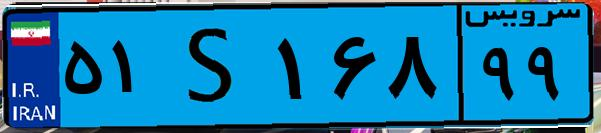1: (270, 28, 330, 110), (110, 28, 158, 98)
5: (57, 26, 110, 100)
6: (330, 28, 385, 110)
8: (385, 28, 445, 110)
9: (475, 38, 525, 113), (525, 38, 570, 115)
S: (158, 12, 270, 120)
